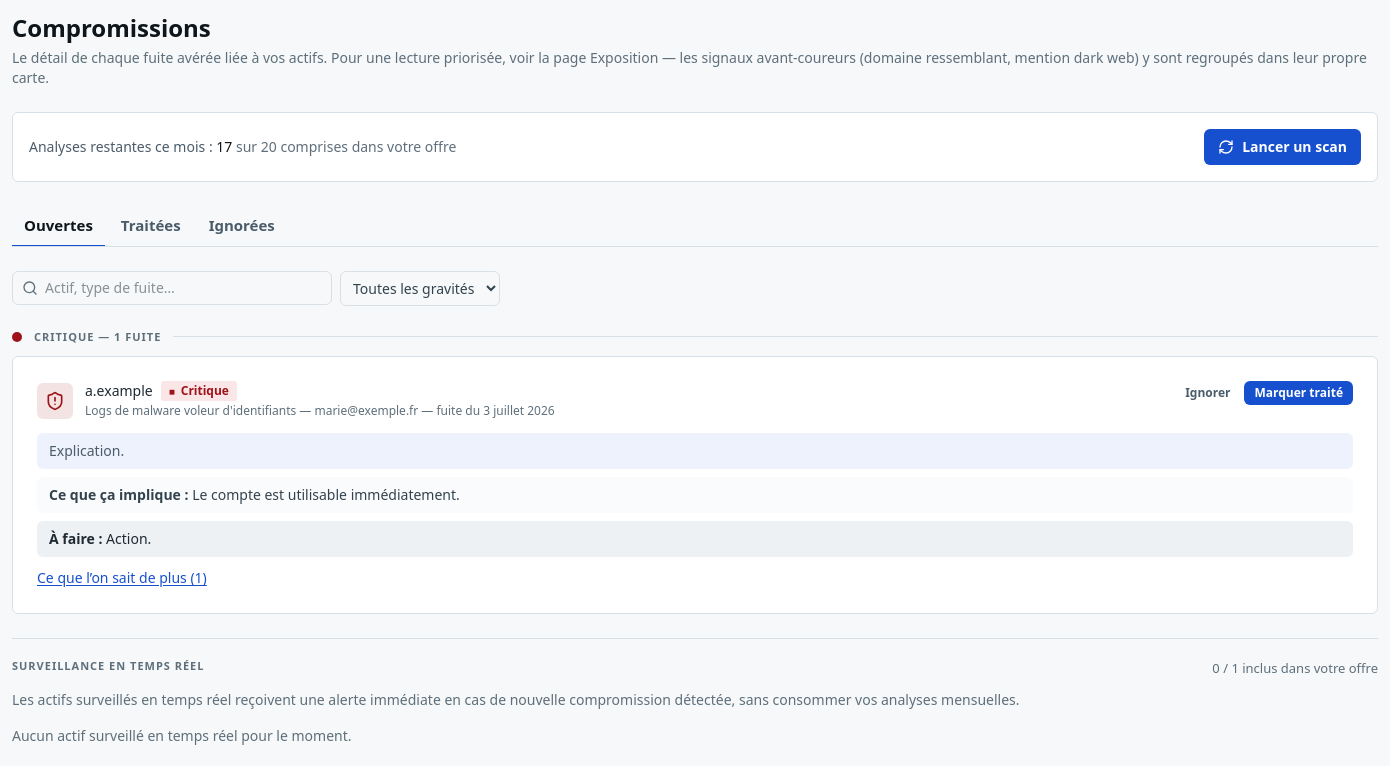
Test: CompromisesPage › n’affiche jamais le nom technique du champ à la place du libellé
Click the button "Ce que l’on sait de plus (1)" at (122, 578), box [37,568,207,588]
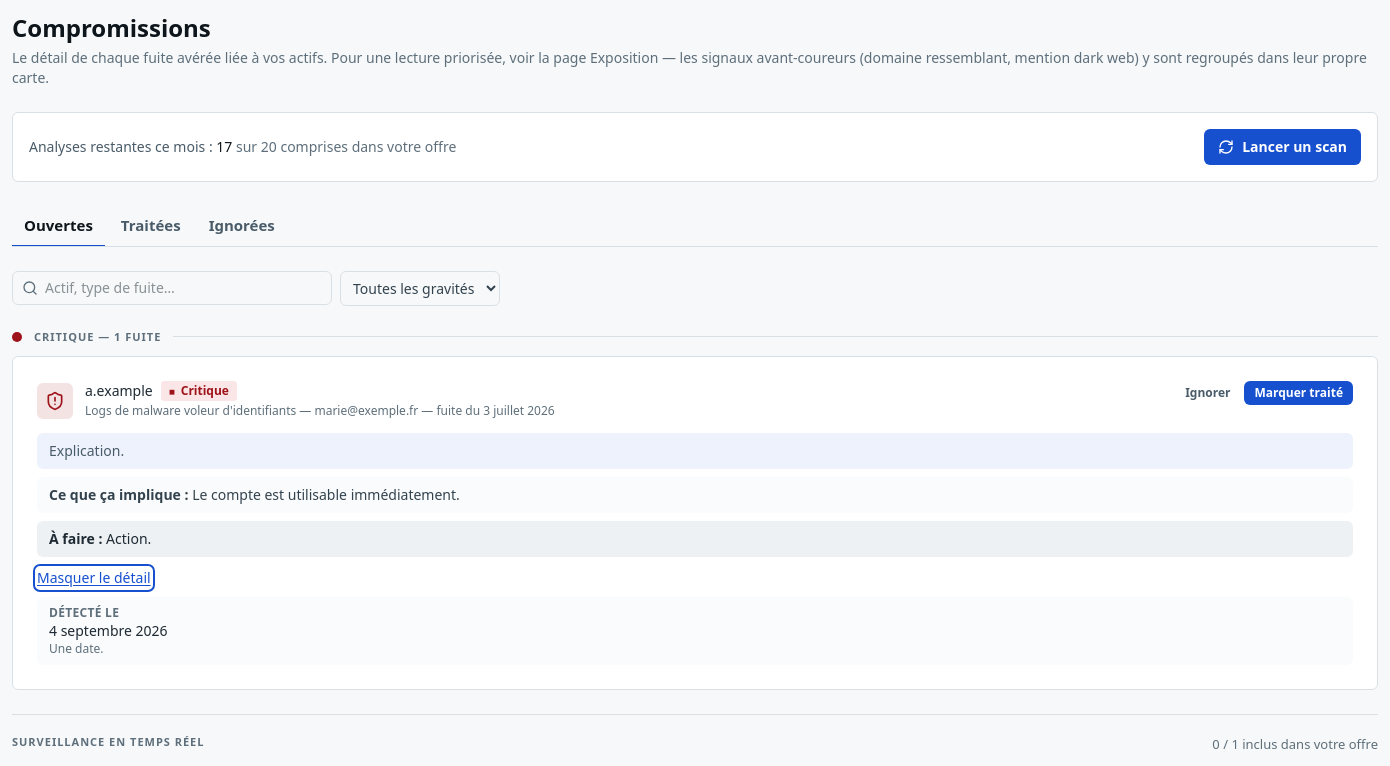
Check: the text "Détecté le" is shown, box [49,604,119,621]
